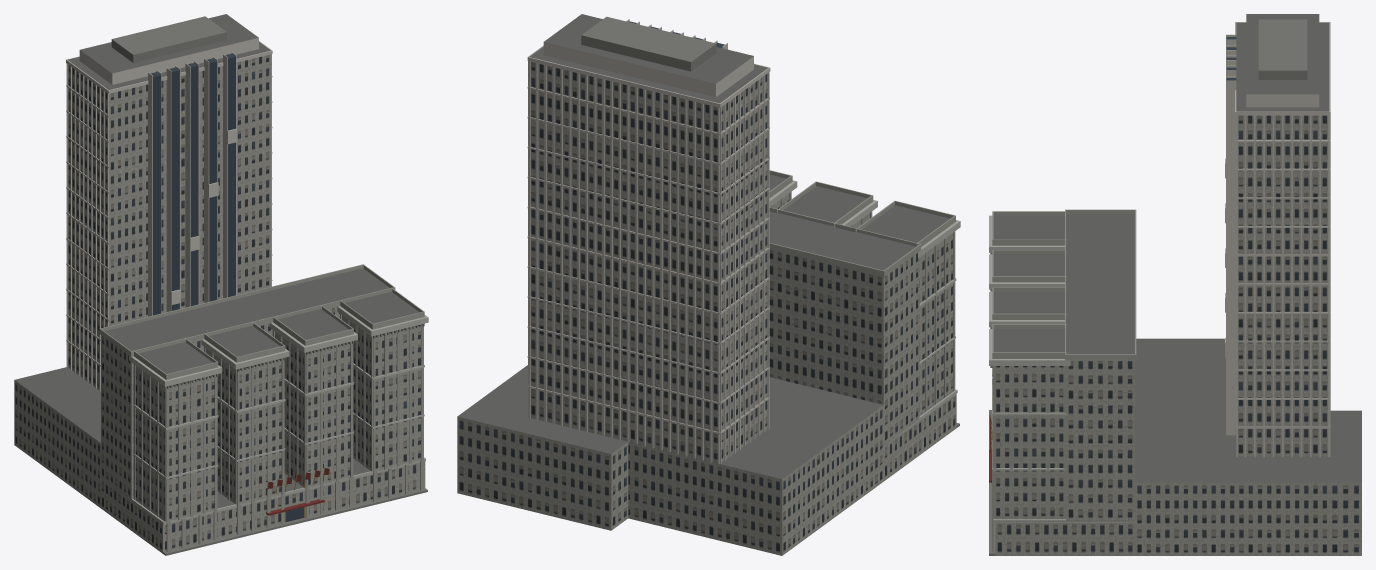
File: westin_st_francis.glb
3 views of the same model, side by side, from view 1: azimuth 30°, elevation 25°; view 2: azimuth 150°, elevation 25°; view 3: azimuth 270°, elevation 25° (orthographic). The views are drawn at different scales.
Parts seen in each view (by area): view 1: westin_st_francis; view 2: westin_st_francis; view 3: westin_st_francis.
Boxes of the visible parts, x1,y1,x2,y2 form: westin_st_francis: (14,14,428,555); westin_st_francis: (457,14,960,555); westin_st_francis: (989,14,1361,555).
Size of the model in its own units: 84.6 by 120 by 92.01.
Materials: 2 (2 with a texture image).
